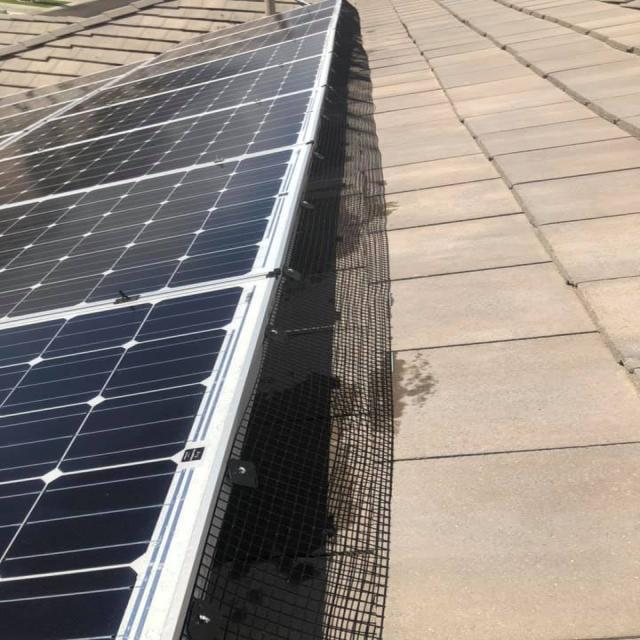clean-solar-panel: (2, 0, 392, 640)
